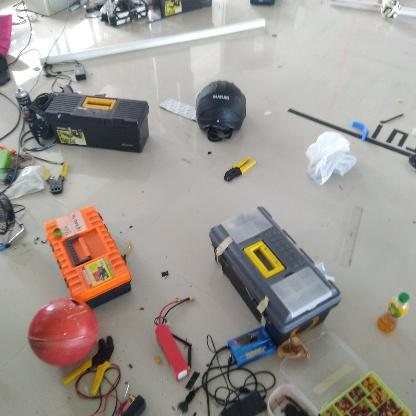red_buoy: (27, 297, 98, 367)
